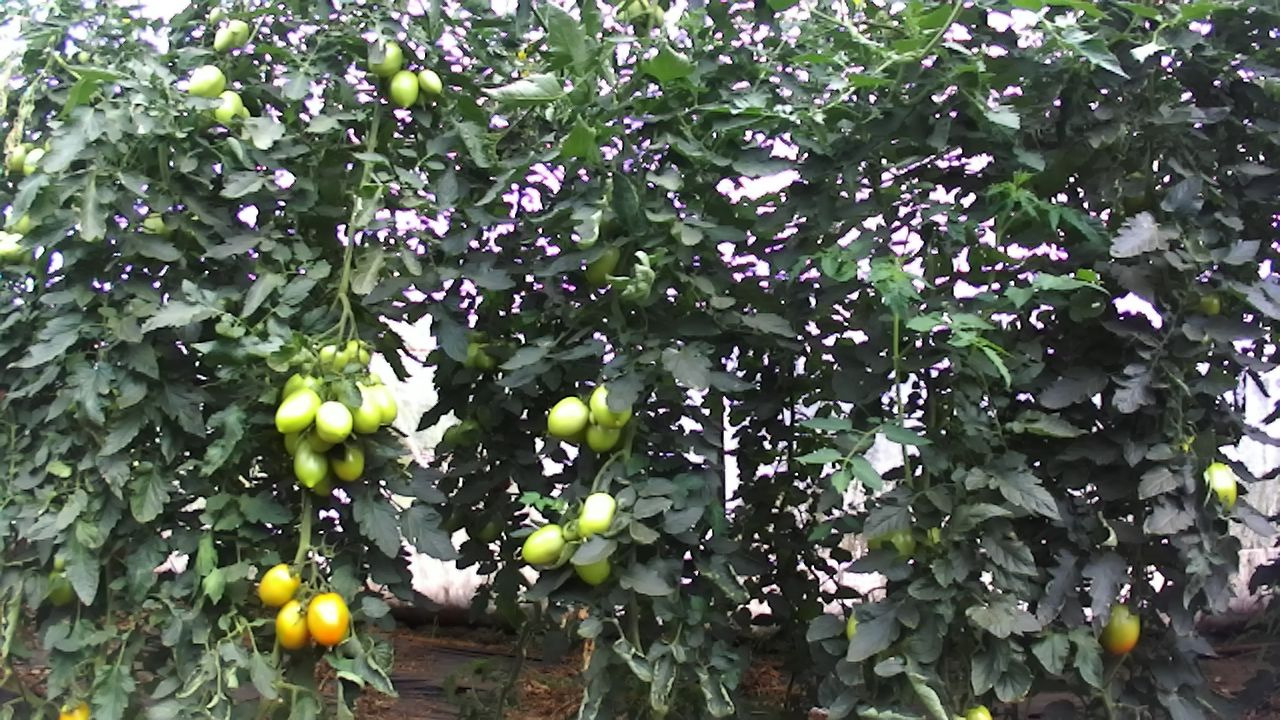tomato: (302, 590, 350, 655), (1096, 601, 1142, 658), (273, 384, 321, 435), (272, 595, 311, 657), (256, 559, 303, 610), (519, 521, 568, 566), (575, 490, 619, 538), (1200, 459, 1239, 512), (546, 393, 590, 439), (291, 438, 329, 491), (313, 399, 354, 445), (328, 435, 366, 484), (186, 63, 227, 101), (387, 67, 421, 110), (416, 67, 443, 97), (211, 25, 236, 53)
